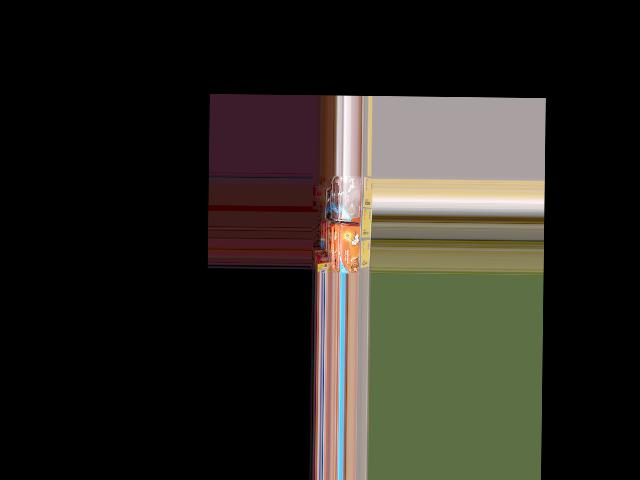chocolate: (339, 174, 366, 217)
